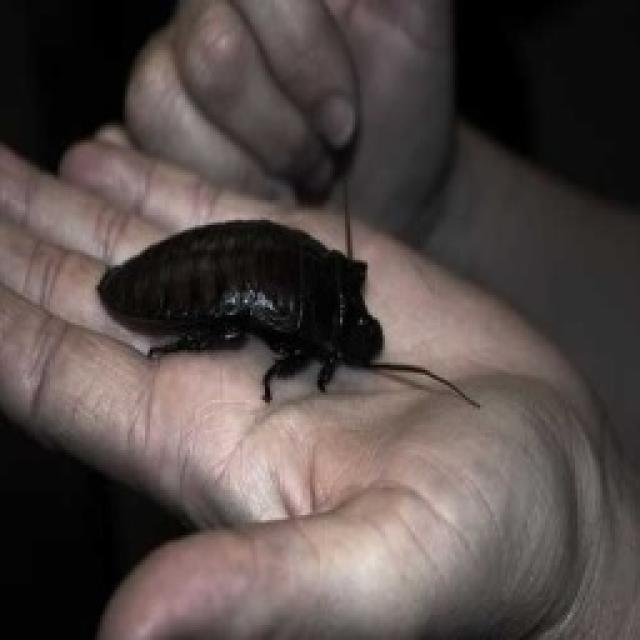cockroach: (92, 203, 485, 414)
